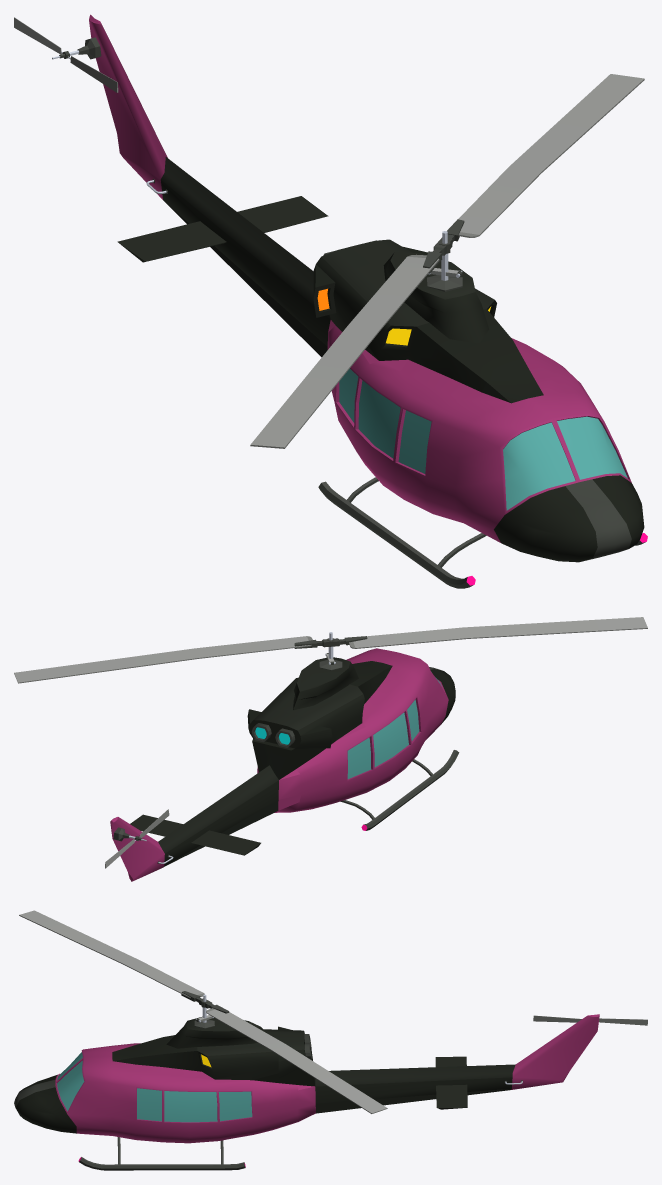
File: Helicopter_Pink.glb
The picture shows the model from 3 angles, top to bottom: view 1: azimuth 30°, elevation 25°; view 2: azimuth 150°, elevation 25°; view 3: azimuth 270°, elevation 25°; orthographic projection. The views are drawn at different scales.
Parts seen in each view (by area): view 1: Helicopter_D; view 2: Helicopter_D; view 3: Helicopter_D.
Part boxes in pixels (<box>): Helicopter_D: <box>14,14,647,588</box>; Helicopter_D: <box>14,617,647,881</box>; Helicopter_D: <box>14,910,647,1170</box>.
Size of what is drawn, in the model's own units: 10.22 by 3.75 by 14.32.
Materials: 1 (1 with a texture image).
